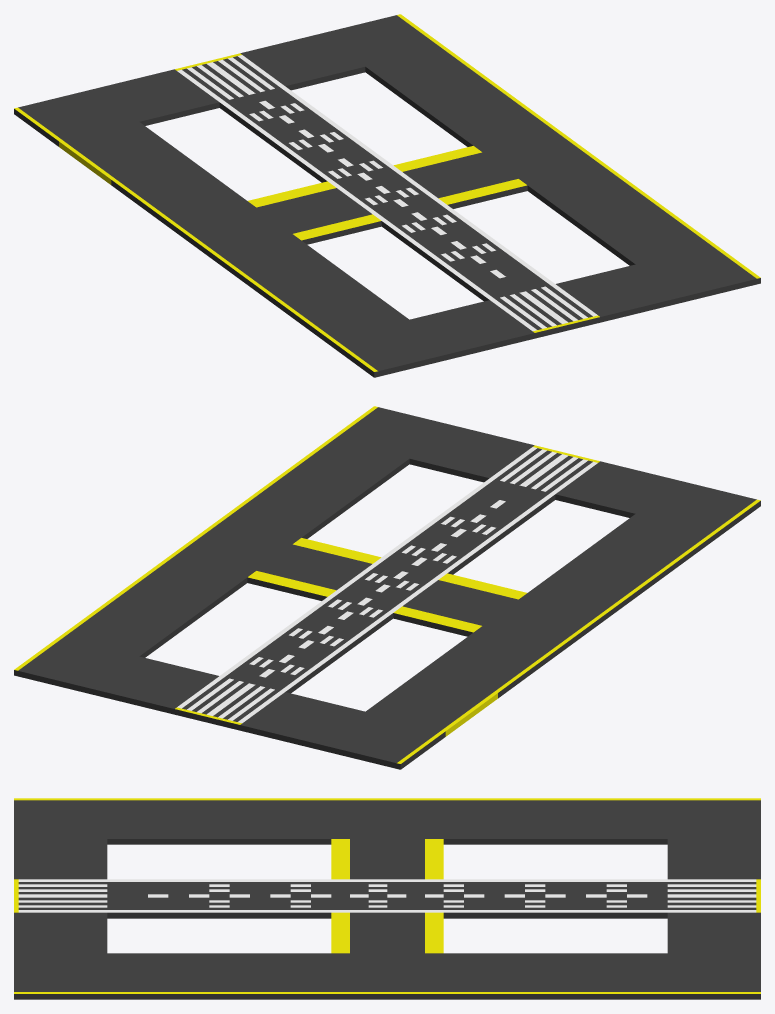
The model's file is RunwayTest.fbx.
3 views of the same model, one above another, from view 1: azimuth 30°, elevation 25°; view 2: azimuth 150°, elevation 25°; view 3: azimuth 270°, elevation 25° (orthographic). The views are drawn at different scales.
Parts seen in each view (by area): view 1: Cube; view 2: Cube; view 3: Cube.
Boxes of the visible parts, x1=… form: Cube: x1=14, y1=14, x2=760, y2=377; Cube: x1=14, y1=406, x2=760, y2=769; Cube: x1=14, y1=798, x2=760, y2=999.
Bounding box in the file's own units: 7000 × 98.15 × 11296.
